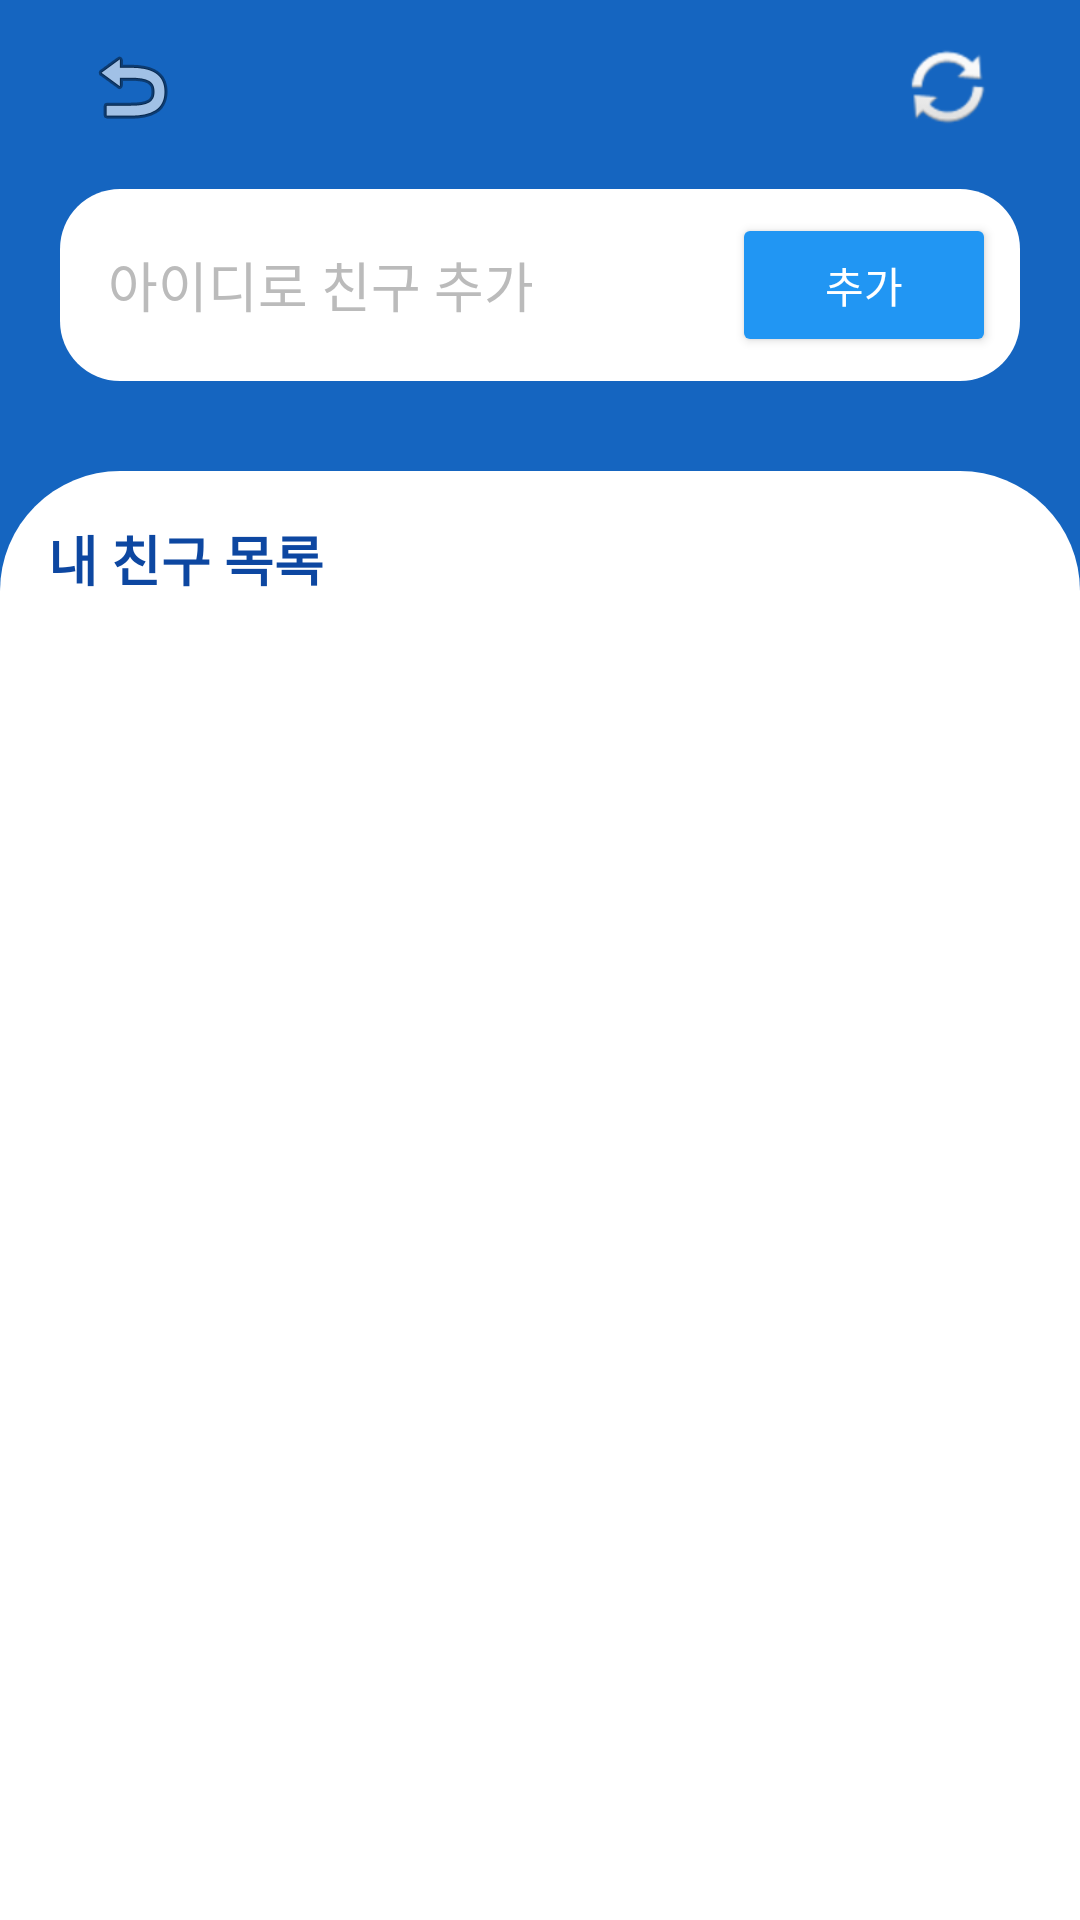

Screen size 1080×1920. Icon name, then its box in pixels as BBox(x1, y1, x2, y2):
뒤로가기: BBox(99, 56, 168, 119)
주소록 동기화: BBox(911, 51, 984, 123)
